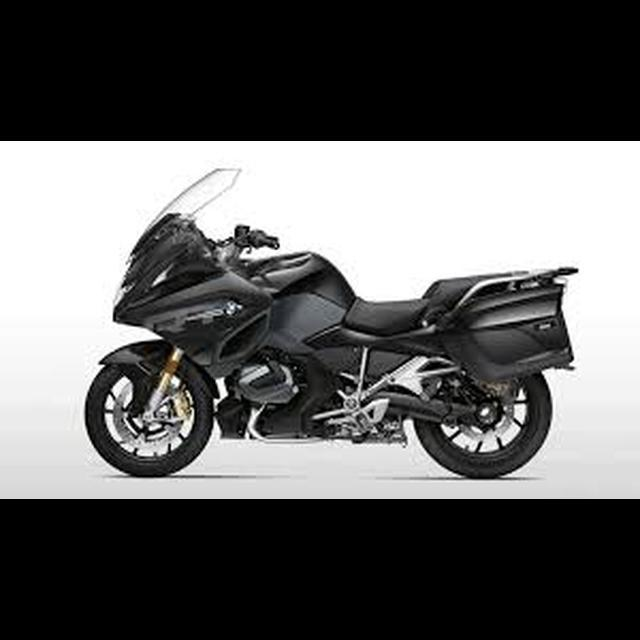motorcycle: (81, 161, 581, 487)
